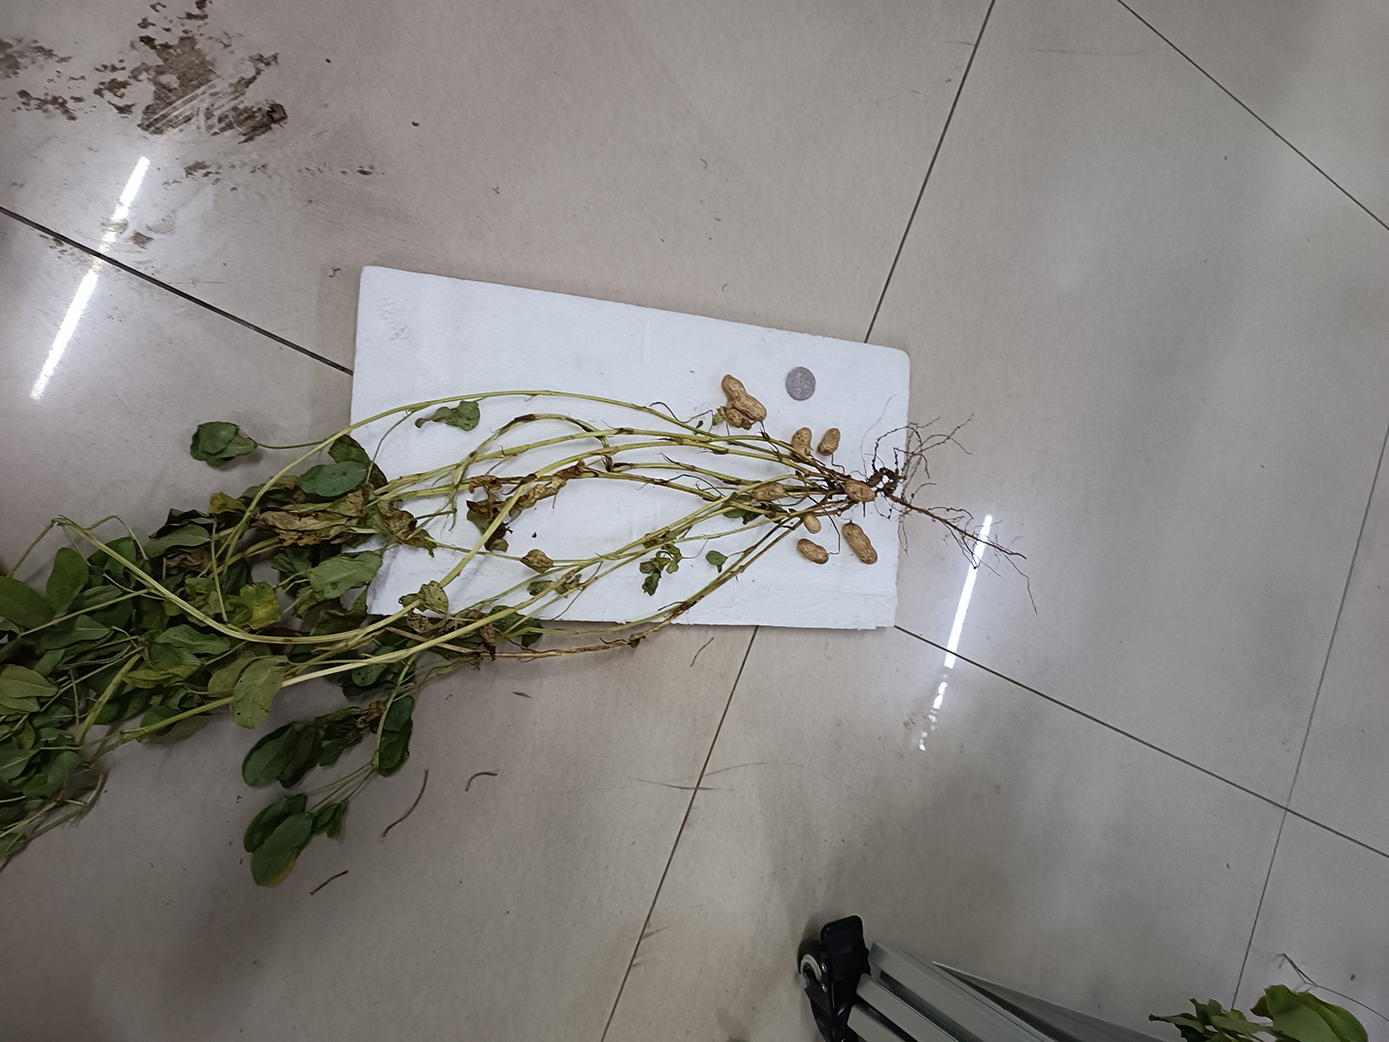h: (721, 374, 767, 422), (841, 521, 878, 565), (796, 539, 829, 564), (752, 481, 783, 503), (791, 426, 813, 458), (817, 428, 841, 455), (803, 513, 822, 533)
l: (720, 408, 750, 431)
